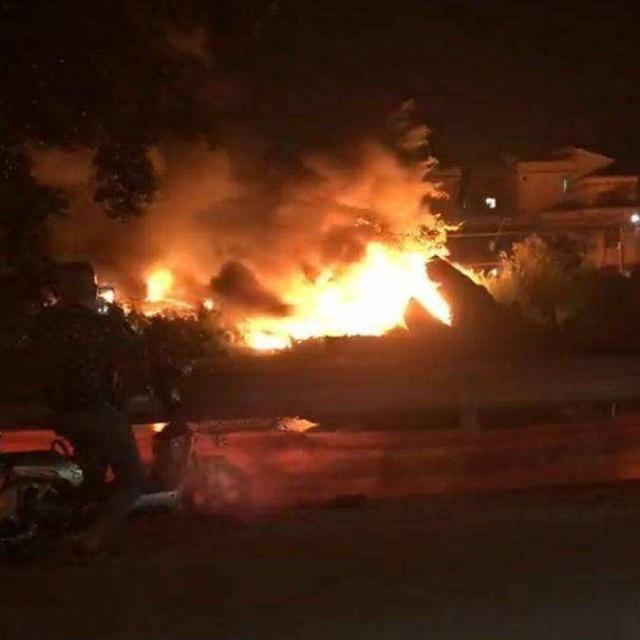Fire: (234, 238, 498, 352), (90, 268, 214, 318)
Smoke: (0, 28, 435, 246)
